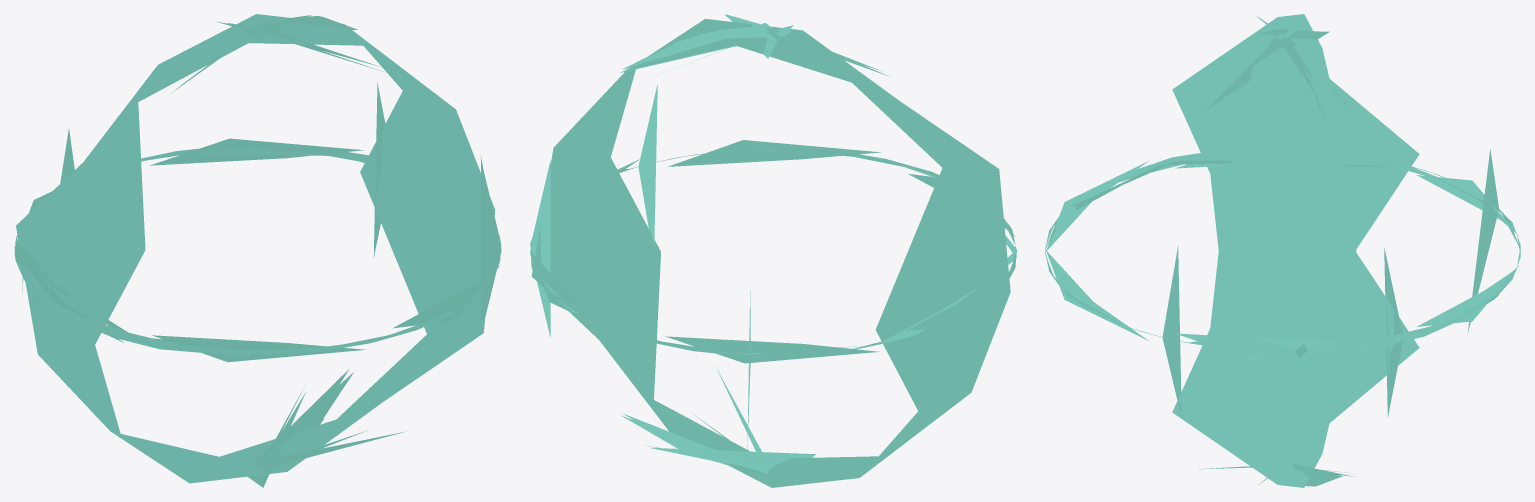
The model's file is fenders-5.glb.
3 views of the same model, side by side, from view 1: azimuth 30°, elevation 25°; view 2: azimuth 150°, elevation 25°; view 3: azimuth 270°, elevation 25° (orthographic). The views are drawn at different scales.
Visible parts, largest first — view 1: fenders; view 2: fenders; view 3: fenders.
Boxes of the visible parts, x1=… form: fenders: x1=14, y1=14, x2=501, y2=487; fenders: x1=530, y1=14, x2=1016, y2=487; fenders: x1=1045, y1=14, x2=1520, y2=487.
Bounding box in the file's own units: 2 × 2 × 2.
